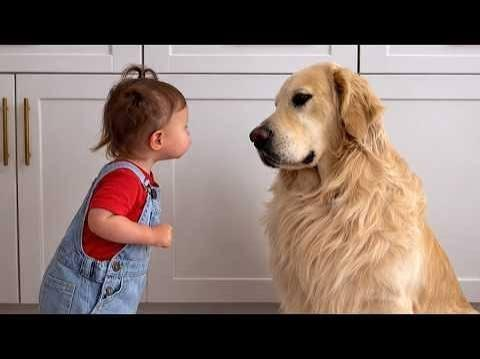adult_dog: (249, 59, 480, 315)
non-dog: (39, 63, 191, 314)
